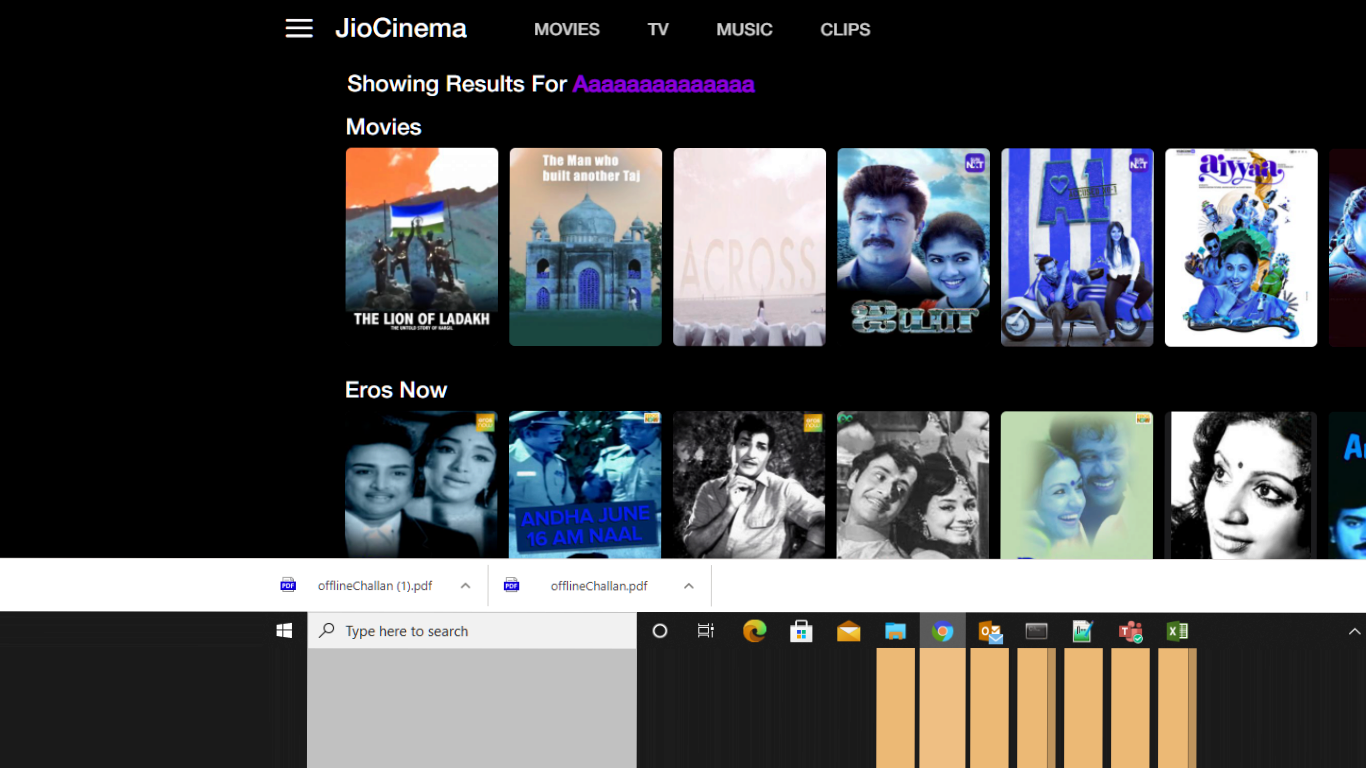noresultsfound: (341, 66, 760, 107)
